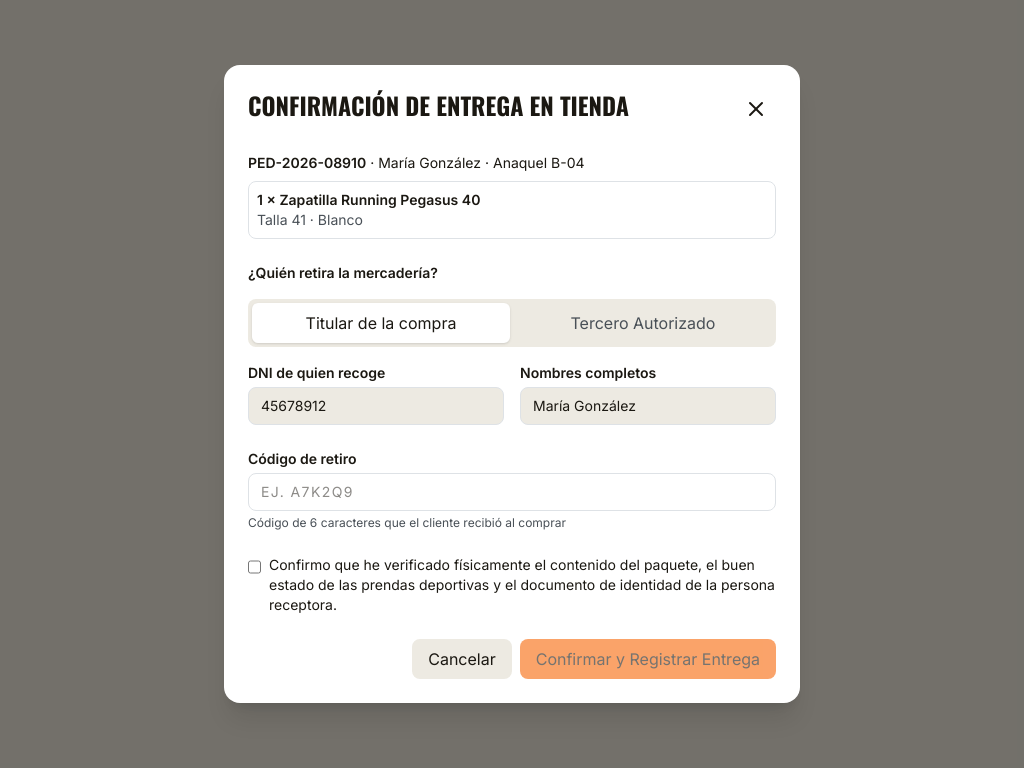
it: DeliveryModal (RF-19) › confirma la entrega con el código de retiro y retira el pedido de la bandeja
Type "a7k2q9" into the field labelled "Código de retiro" at (512, 492), box [248,473,776,511]
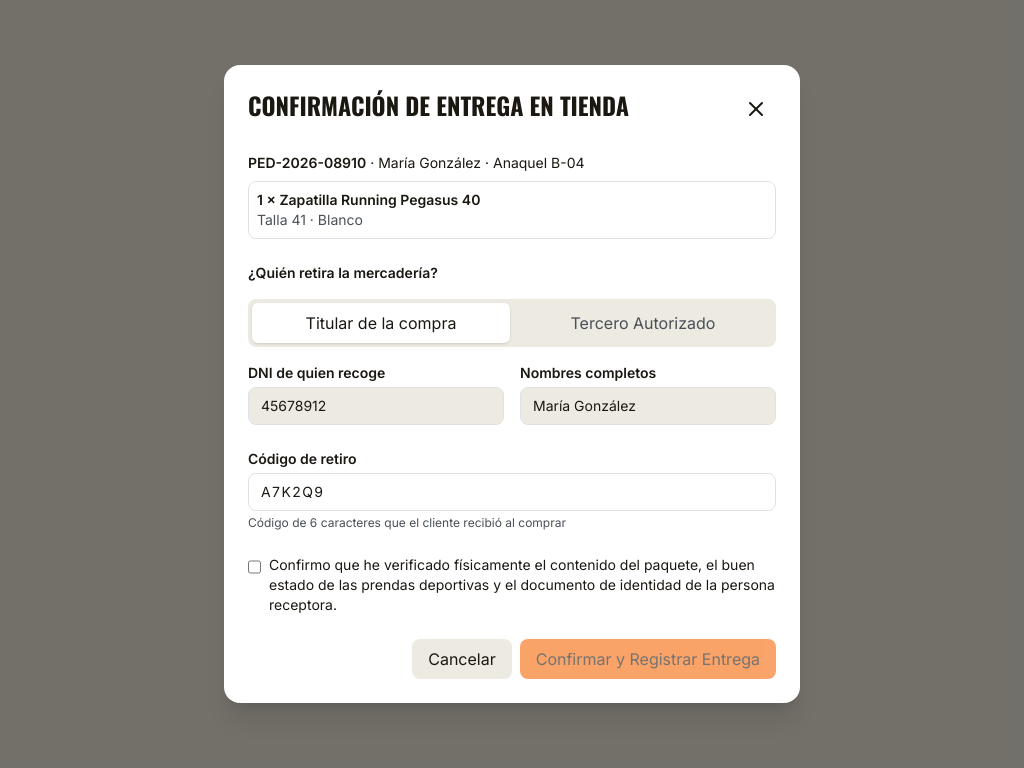
Click the checkbox labelled "verificado físicamente" at (254, 567), box [248,559,261,575]
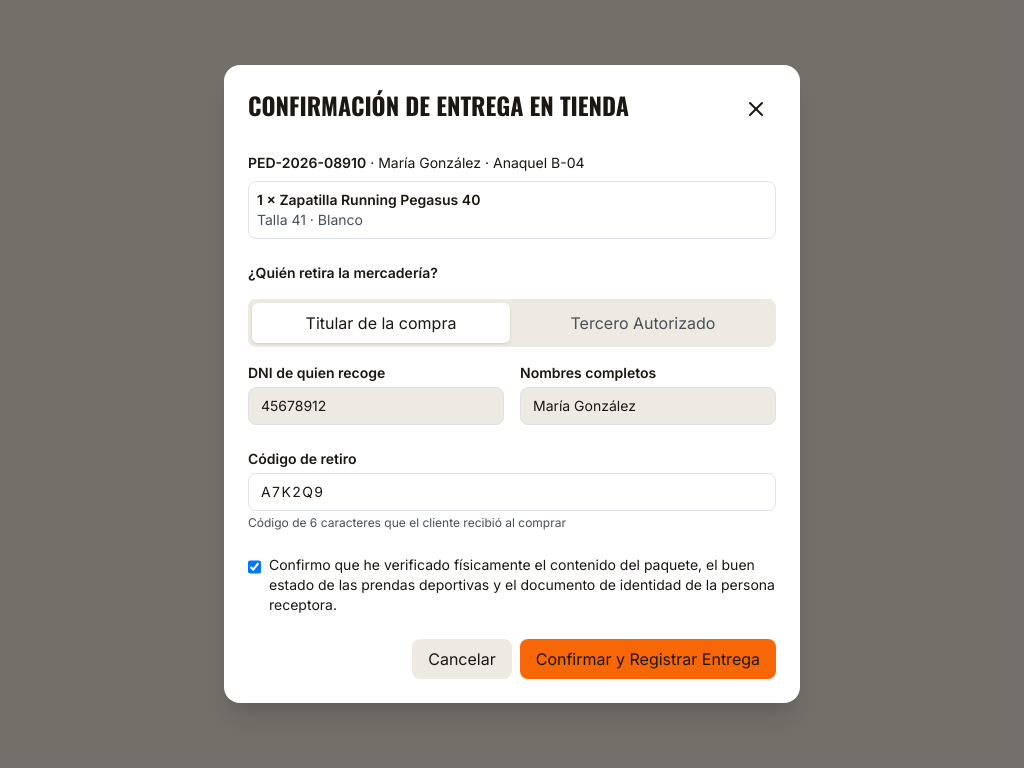
Click the button "Confirmar y Registrar Entrega" at (648, 659), box [520,639,776,679]
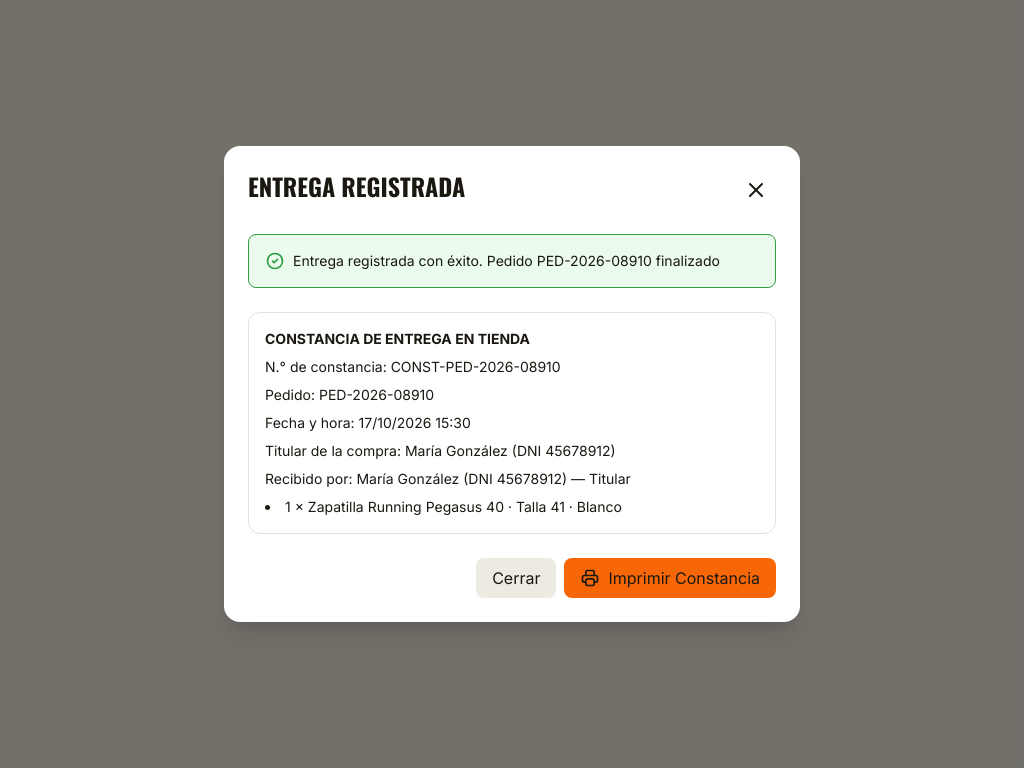
Expected: the text "N.° de constancia: CONST-PED-2026-08910" is shown, [265,358,561,375]
